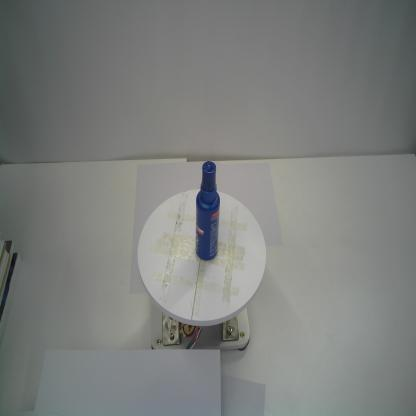Personal Hygiene: (195, 161, 220, 261)
